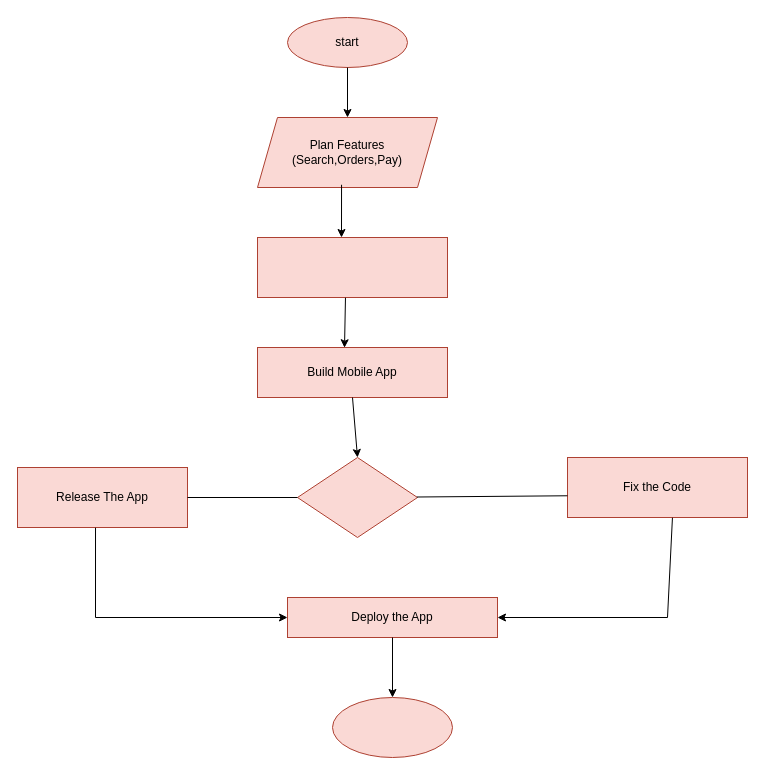
This 765x775 diagram has some shape labels left out. The centre of each missing label's shape, as x and y in pixels:
Code (Service: Menu, Cart,Orders, Delivery): (x=352, y=267)
End: (x=392, y=727)
Test Passed: (x=357, y=497)
